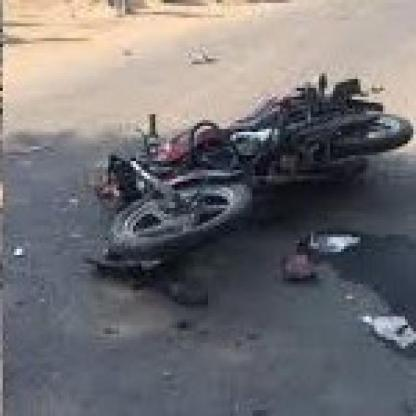bike: (82, 72, 412, 300)
